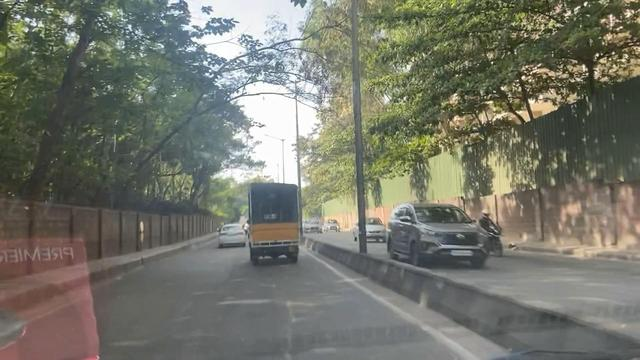HMV: (244, 179, 303, 267)
